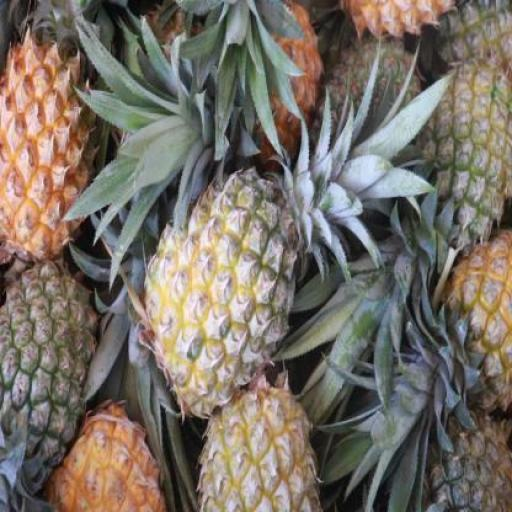------------------------------: (143, 162, 296, 410), (421, 50, 511, 244), (195, 374, 317, 512)
Pineapple - v8 v1: (0, 35, 107, 278), (42, 392, 166, 510)
